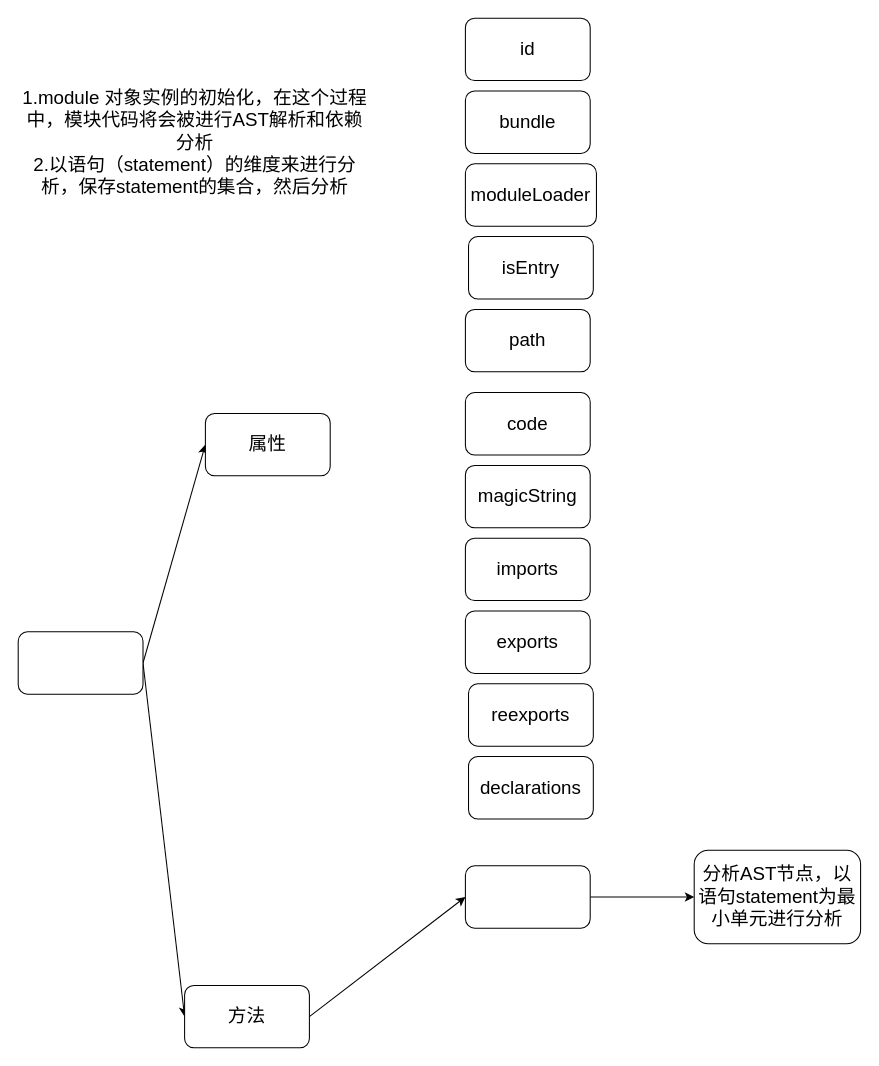
The diagram is 879 pixels wide and 1066 high, and some of its shapes have lost their labels. Here are the shapes that lost their labels. From the top down, the box of each, then its label:
(17, 631, 143, 694): module
(464, 865, 590, 928): analyseAST
